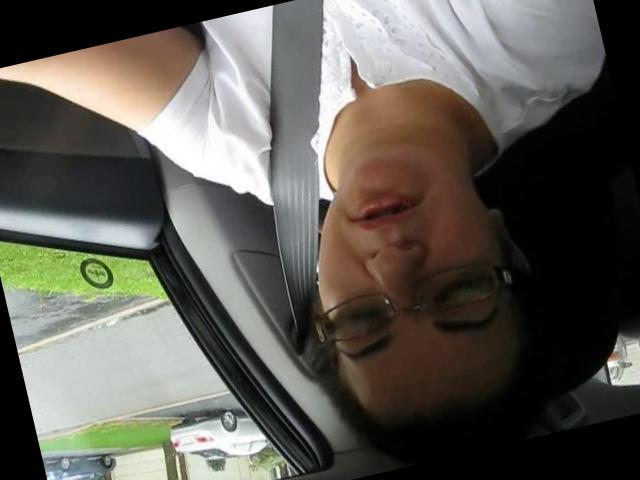eye_closed: (426, 263, 494, 310), (330, 294, 395, 338)
face: (284, 125, 516, 394)
